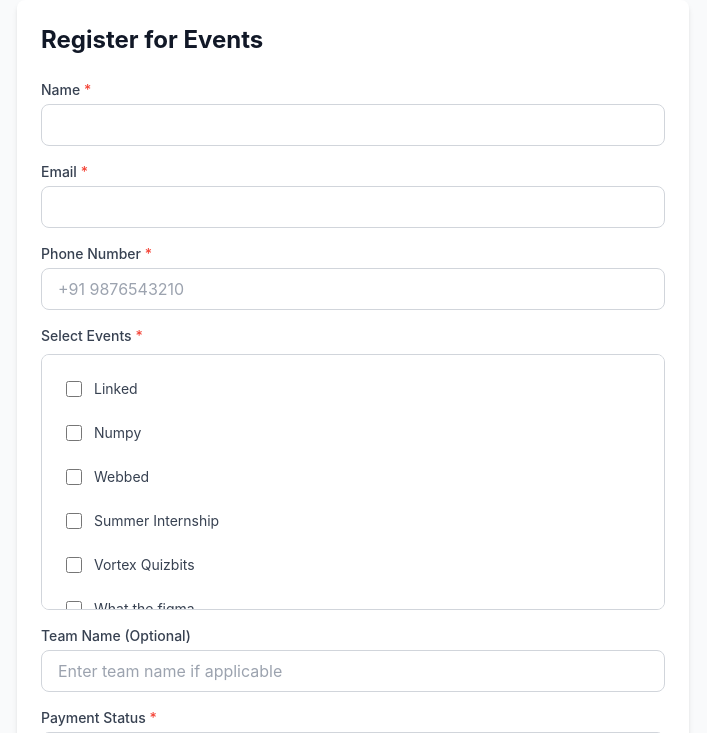
Scenario: EventRegistrationForm › validates email format
The width and height of the screenshot is (707, 733).
Type "invalid-email" into the field labelled "Email *" at point(353, 207), box [41,186,665,228]
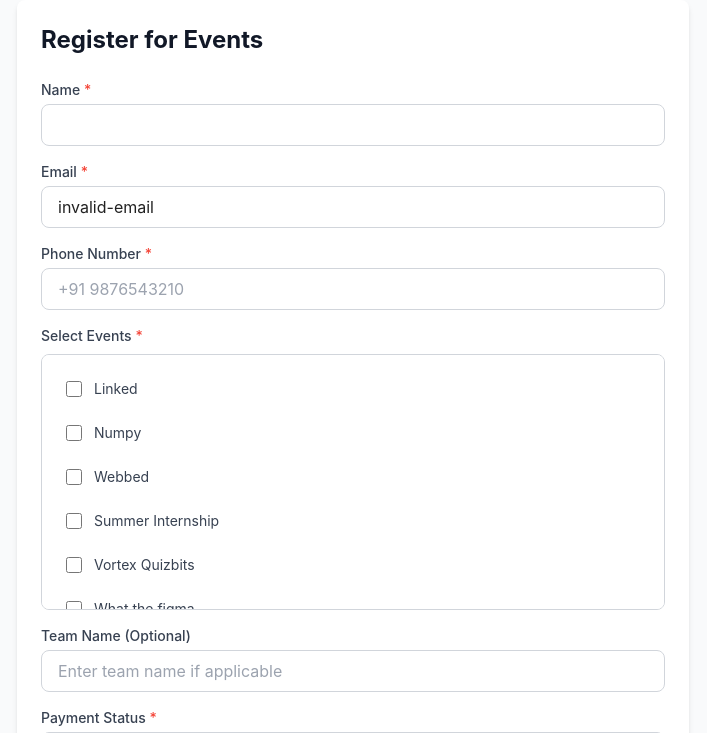
Leave the field labelled "Email *", box [41,186,665,228]
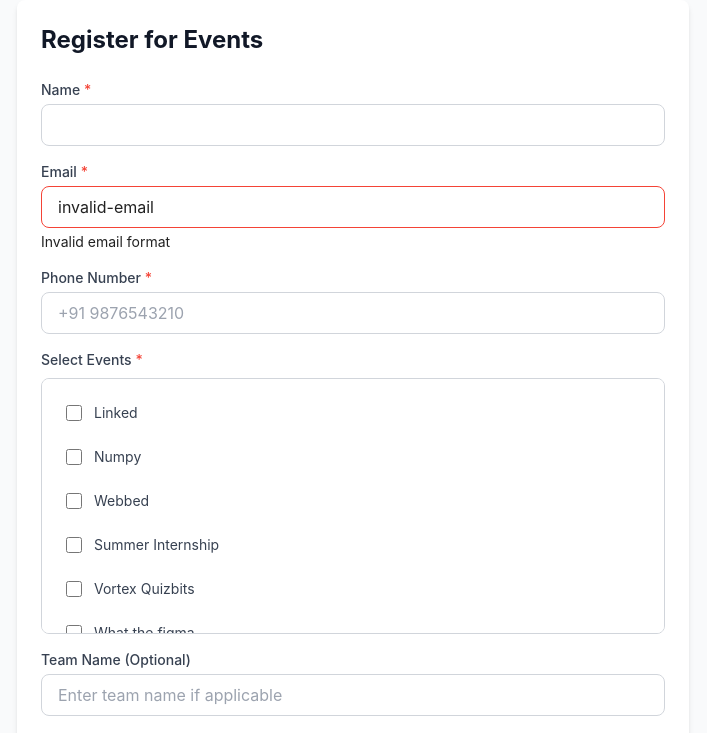
Expected: the text "Invalid email format" is shown, [41,233,170,250]
